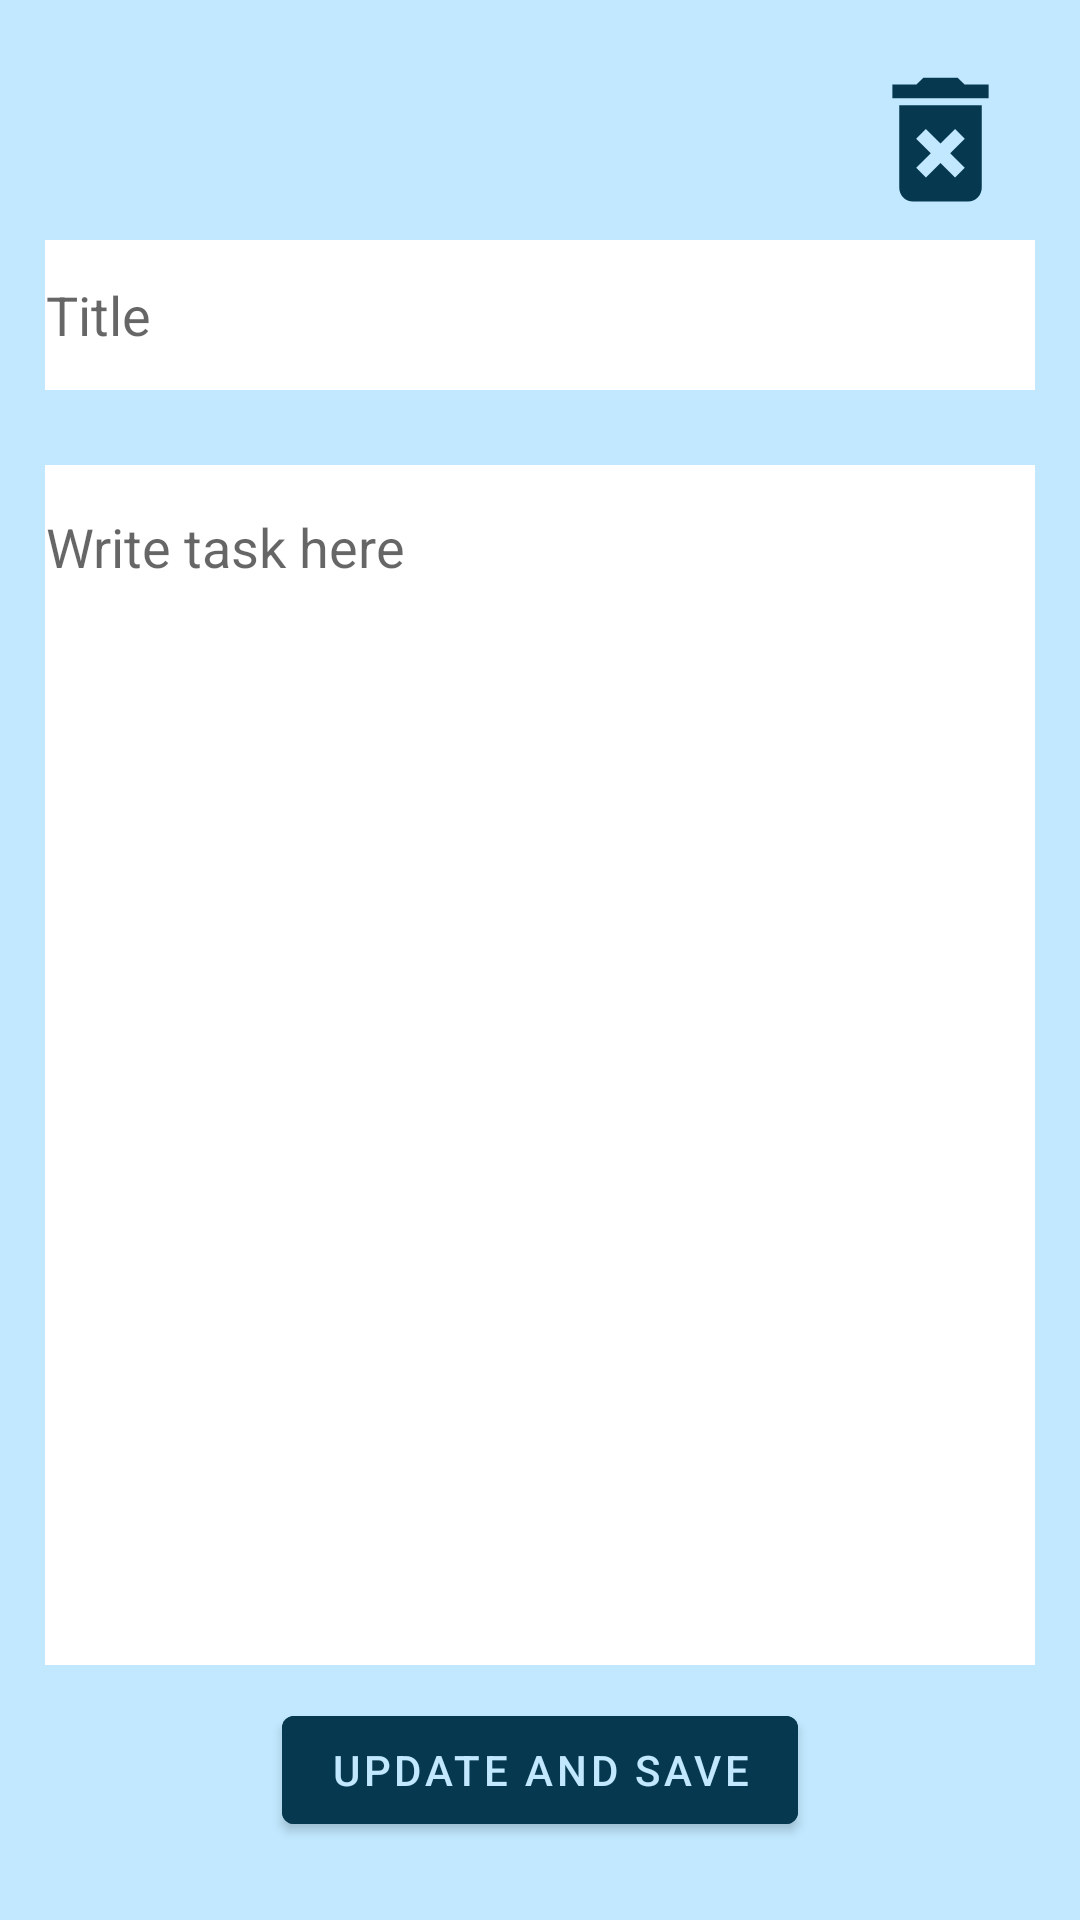

Icon click points for this 1080 x 1920 phone screenshot, format point (x, y):
delete all: point (940, 139)
